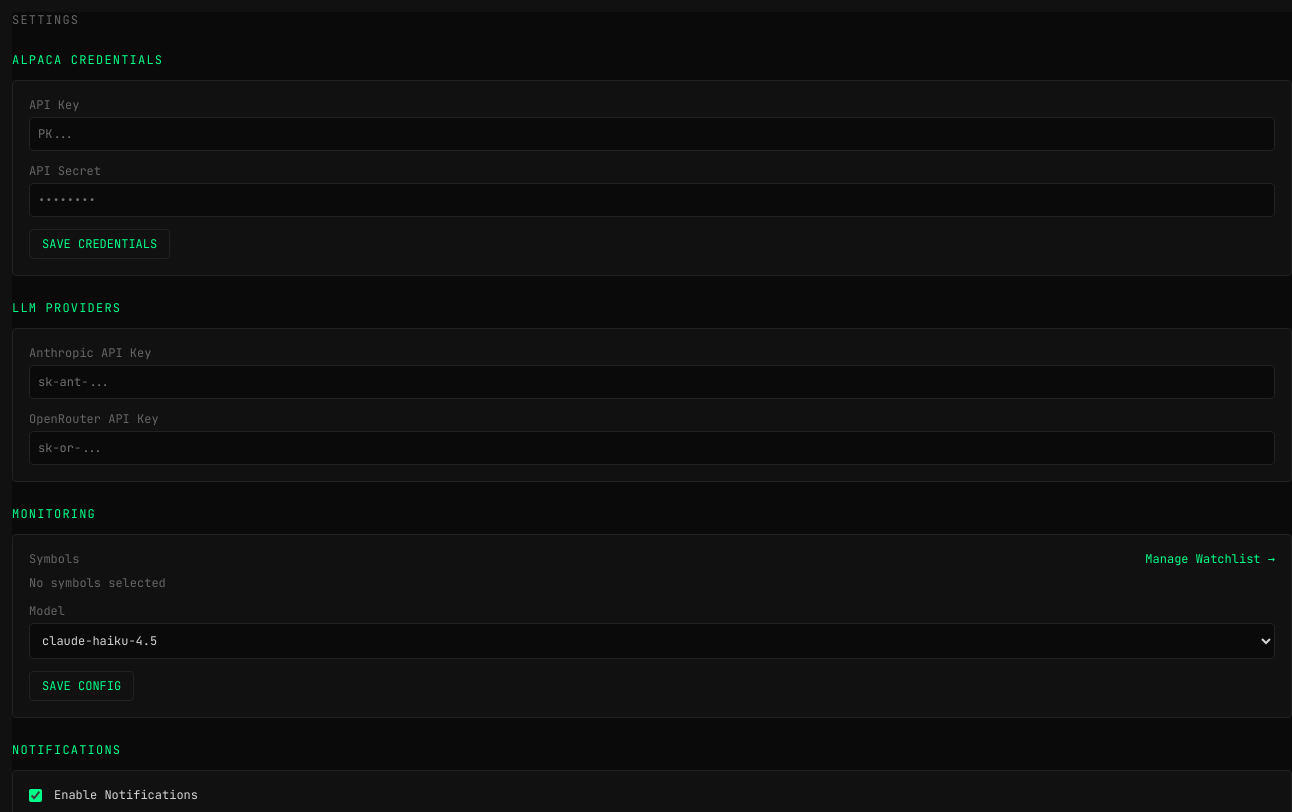
Test: Settings › shows toast when config saved
The image size is (1292, 812).
Click the button "SAVE CONFIG": (82, 686) [29, 671, 134, 701]
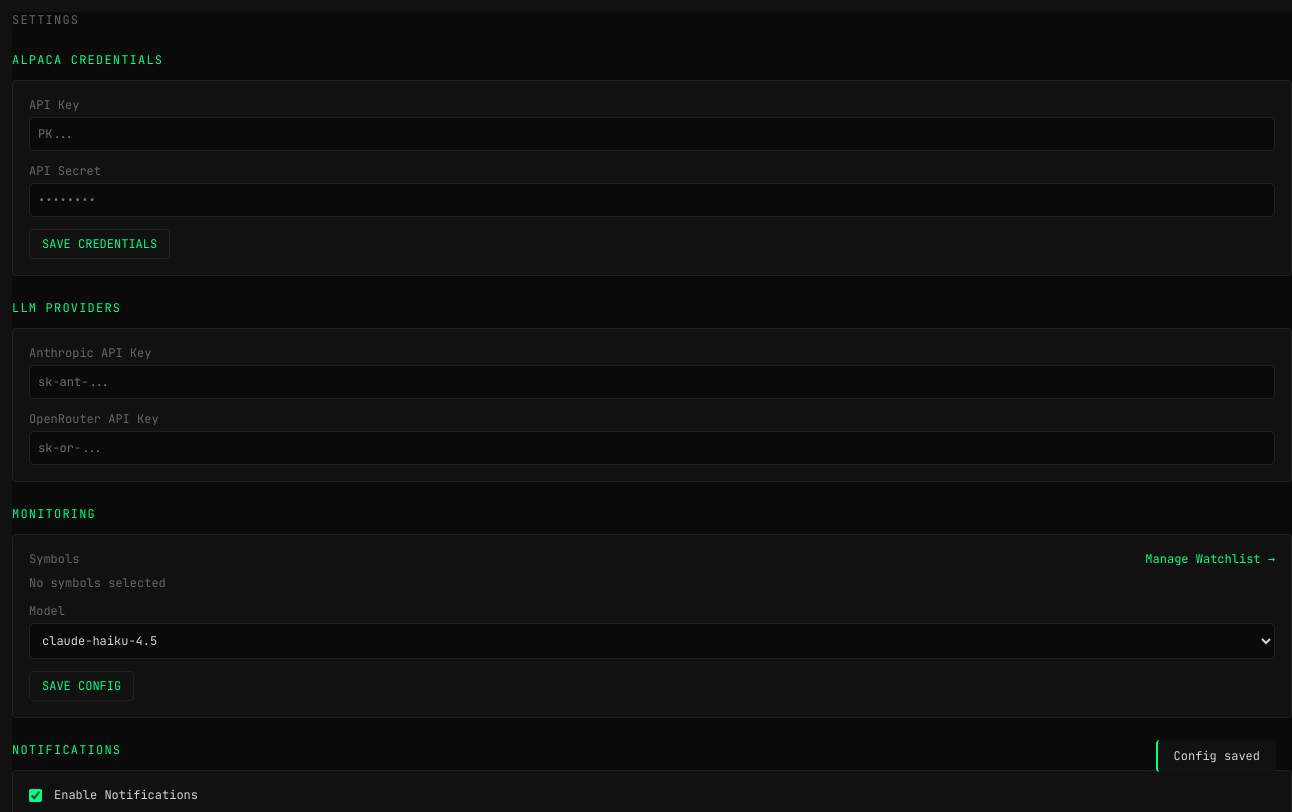
Expected: the text "Config saved" is shown, [1156, 740, 1276, 772]
